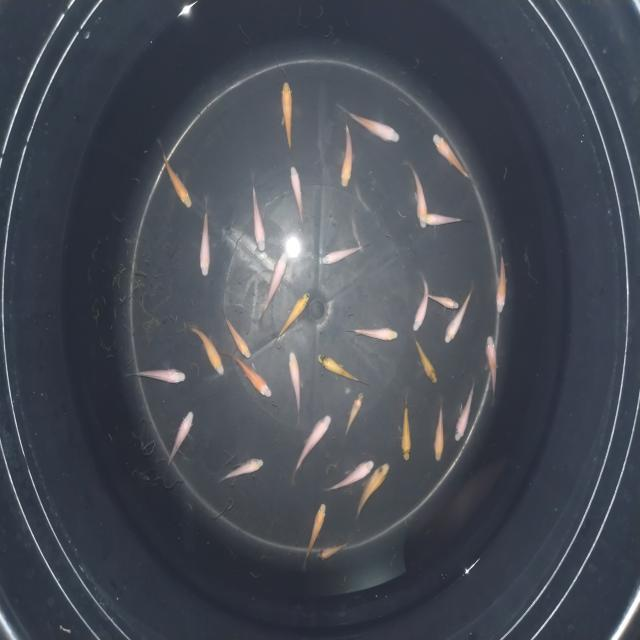nila: (288, 406, 334, 484), (334, 99, 402, 147), (154, 136, 193, 213), (350, 457, 392, 526), (429, 131, 476, 191), (442, 282, 482, 346), (160, 407, 198, 473), (224, 350, 274, 400), (300, 499, 331, 572), (186, 325, 227, 379), (321, 455, 379, 493), (258, 251, 289, 321), (316, 233, 372, 270), (274, 288, 310, 344), (220, 303, 253, 361), (317, 348, 367, 385), (213, 453, 266, 487), (248, 175, 270, 256), (452, 378, 478, 446), (406, 160, 428, 234), (276, 78, 296, 154), (120, 366, 188, 387), (412, 334, 438, 388), (484, 331, 502, 407), (492, 240, 510, 316), (430, 396, 450, 464), (196, 200, 212, 281), (338, 114, 354, 193), (410, 266, 428, 334), (398, 388, 414, 464), (286, 350, 304, 416), (288, 164, 305, 232), (346, 324, 400, 344), (343, 390, 366, 436), (314, 536, 354, 562), (419, 288, 462, 312), (418, 213, 471, 226)
